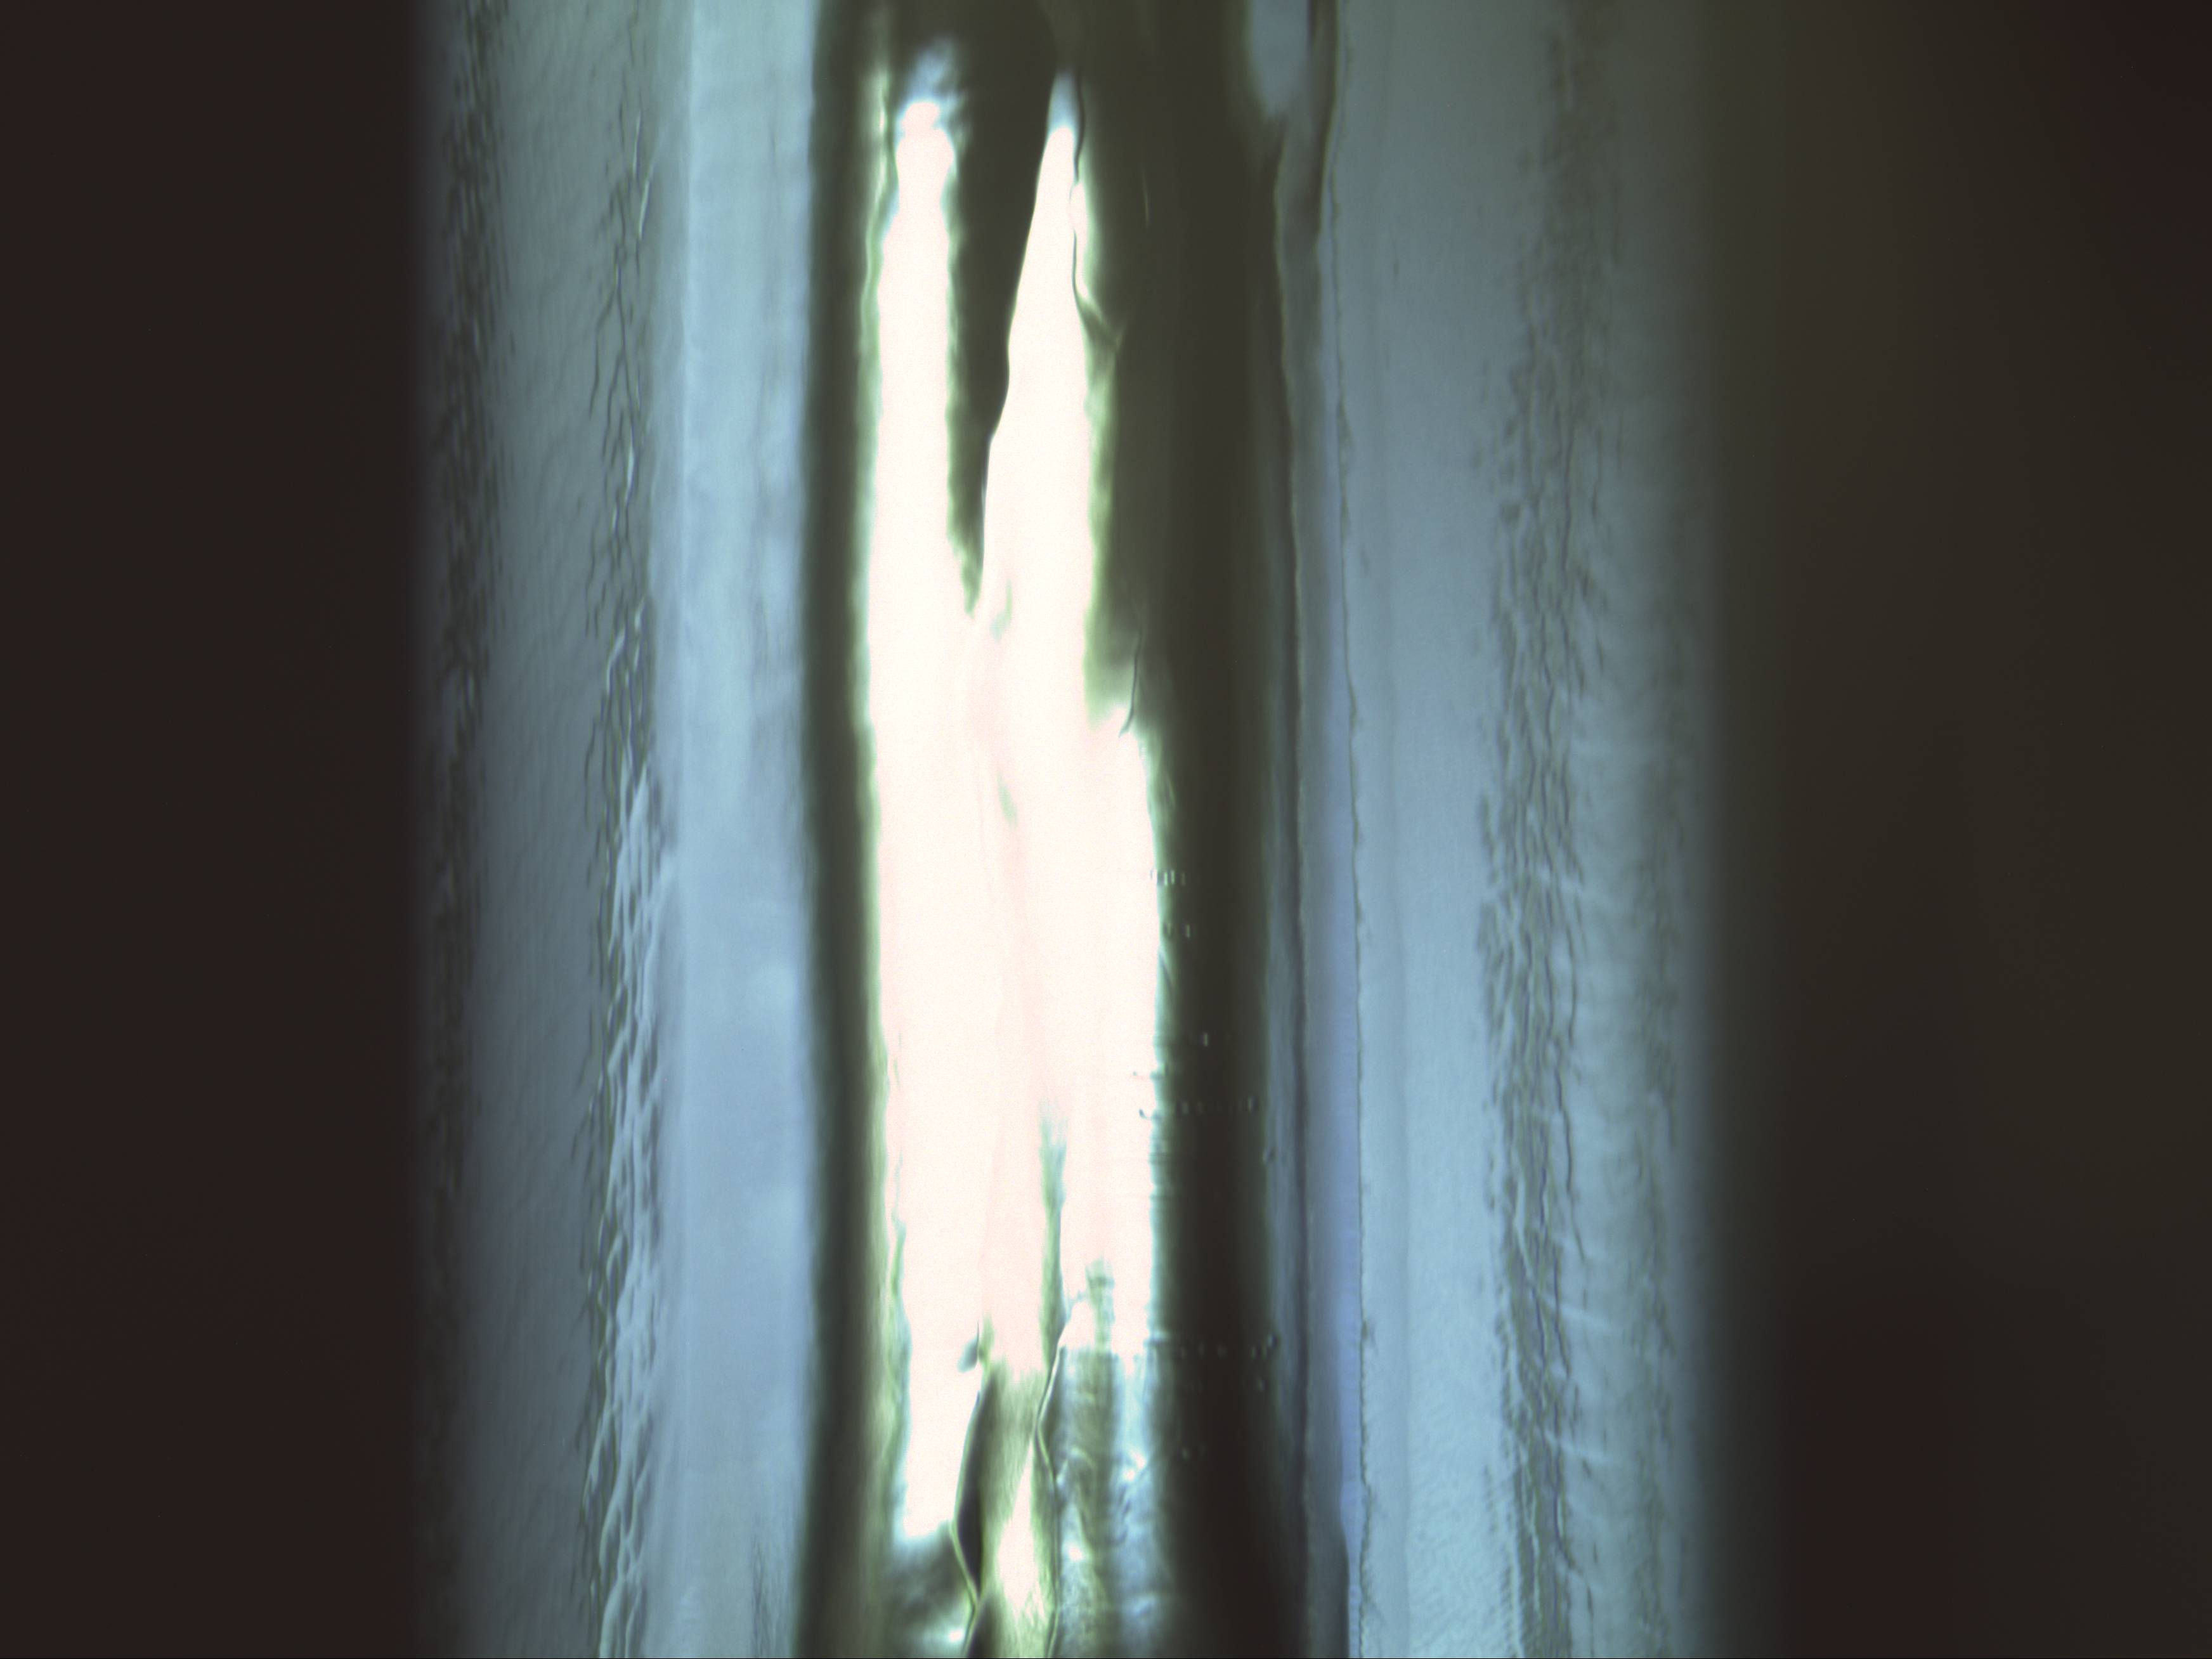defect: (1122, 1016, 1224, 1084), (1139, 1307, 1247, 1370), (1130, 1096, 1204, 1121), (1141, 918, 1204, 946), (1141, 863, 1190, 890)
